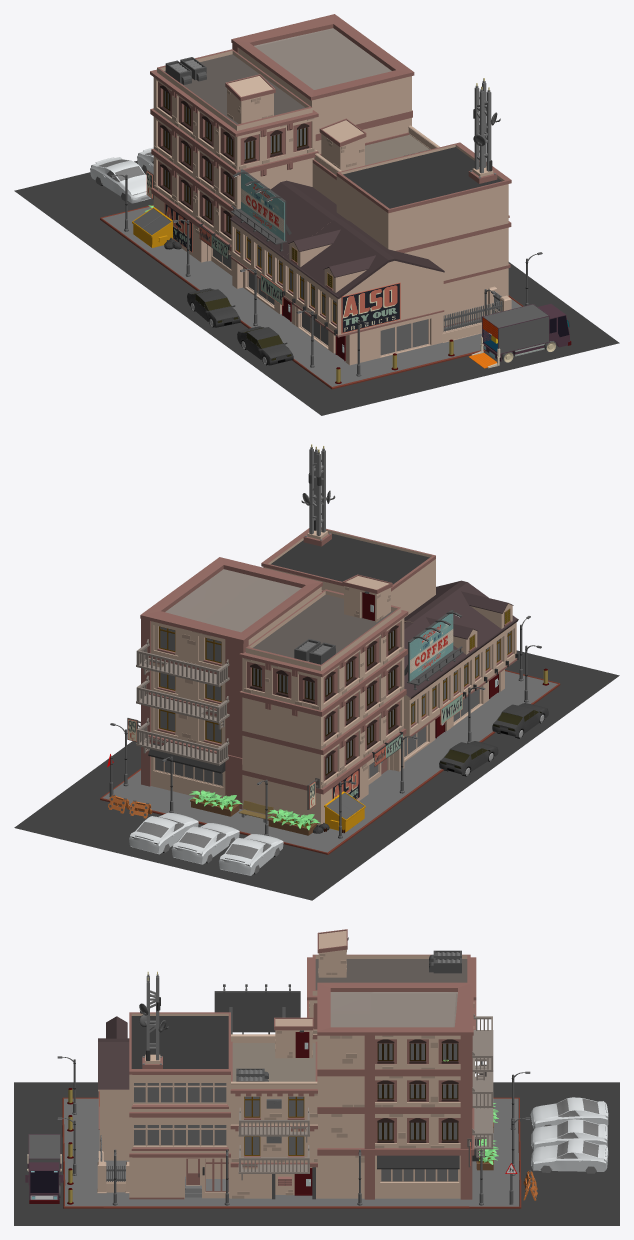
File: low_poly_city_block.glb
3 views of the same model, one above another, from view 1: azimuth 30°, elevation 25°; view 2: azimuth 150°, elevation 25°; view 3: azimuth 270°, elevation 25° (orthographic).
Visible parts, largest first — view 1: Cube.002, house_prefab_2.002, Plane, house_prefab_3.002, Cube.001, house_prefab_3.001, Cube.006, truck_open.001, Cube.021, Cube.010, house_prefab_4.001, house_roof_prefab.001 (+9 smaller); view 2: Cube.002, Cube.001, Plane, house_prefab_2.002, house_prefab_3.002, Cube.006, house_prefab_3.001, Cube.021, Cube.009, house_roof_prefab.001, Cube.022, car.002 (+10 smaller); view 3: Cube.001, Plane, house_prefab_2.002, house_prefab_4.001, Cube.002, house_prefab_3.002, Cube.003, Cube.021, truck_open.001, Cube.010, car.001, Cube.009 (+13 smaller).
Part boxes in pixels (x1=…): Cube.002: x1=150, y1=49, x2=318, y2=288; house_prefab_2.002: x1=336, y1=142, x2=511, y2=327; Plane: x1=14, y1=160, x2=619, y2=415; house_prefab_3.002: x1=282, y1=218, x2=444, y2=365; Cube.001: x1=231, y1=14, x2=414, y2=154; house_prefab_3.001: x1=230, y1=180, x2=346, y2=325; Cube.006: x1=120, y1=232, x2=342, y2=369; truck_open.001: x1=469, y1=304, x2=571, y2=368; Cube.021: x1=230, y1=169, x2=291, y2=251; Cube.010: x1=360, y1=333, x2=485, y2=378; house_prefab_4.001: x1=312, y1=132, x2=429, y2=204; house_roof_prefab.001: x1=225, y1=74, x2=275, y2=123; Cube.002: x1=239, y1=589, x2=408, y2=825; Cube.001: x1=136, y1=557, x2=322, y2=809; Plane: x1=14, y1=650, x2=619, y2=900; house_prefab_2.002: x1=261, y1=527, x2=435, y2=617; house_prefab_3.002: x1=404, y1=580, x2=518, y2=727; Cube.006: x1=346, y1=694, x2=534, y2=839; house_prefab_3.001: x1=404, y1=621, x2=463, y2=761; Cube.021: x1=404, y1=610, x2=463, y2=690; Cube.009: x1=150, y1=791, x2=295, y2=841; house_roof_prefab.001: x1=342, y1=574, x2=392, y2=622; Cube.022: x1=301, y1=444, x2=335, y2=546; car.002: x1=171, y1=823, x2=239, y2=864; Cube.001: x1=317, y1=982, x2=493, y2=1199; Plane: x1=14, y1=1082, x2=619, y2=1225; house_prefab_2.002: x1=129, y1=1012, x2=230, y2=1199; house_prefab_4.001: x1=230, y1=1041, x2=317, y2=1199; Cube.002: x1=307, y1=950, x2=476, y2=1043; house_prefab_3.002: x1=98, y1=1016, x2=129, y2=1160; Cube.003: x1=103, y1=1192, x2=469, y2=1208; Cube.021: x1=214, y1=984, x2=300, y2=1034; truck_open.001: x1=25, y1=1134, x2=63, y2=1203; Cube.010: x1=62, y1=1119, x2=113, y2=1185; car.001: x1=531, y1=1139, x2=608, y2=1173; Cube.009: x1=472, y1=1119, x2=521, y2=1185.
Bounding box in the file's own units: 28.88 × 21.15 × 51.56.
Materials: 44 (4 with a texture image).
